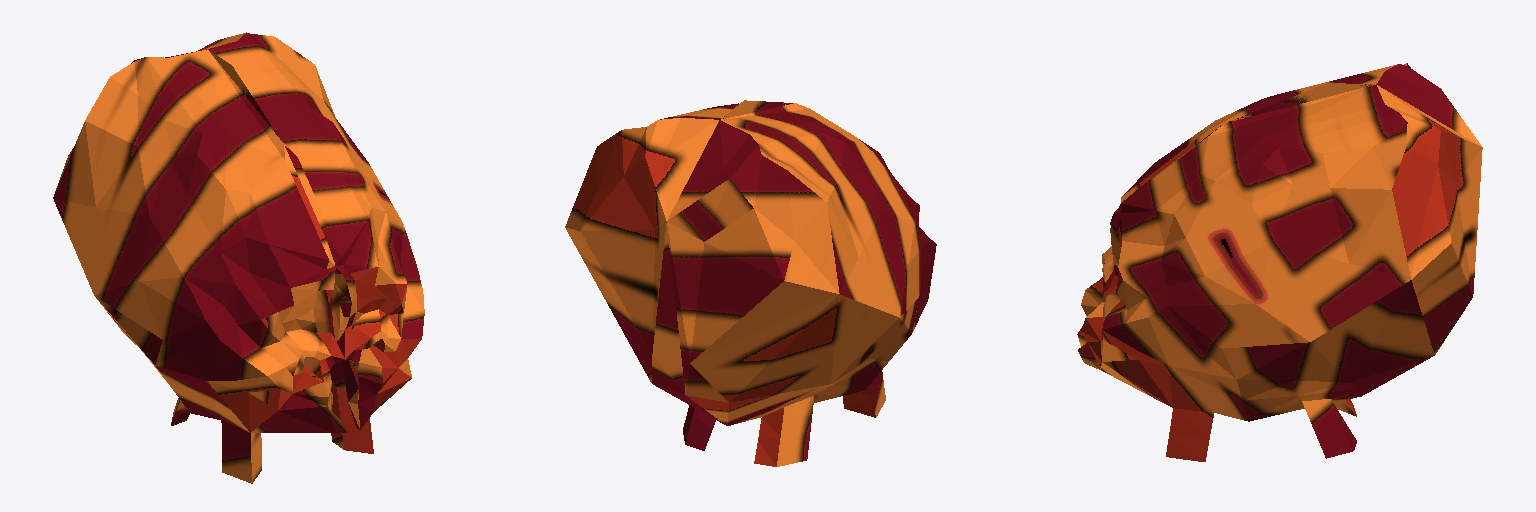
3 renders of one model, left to right at view 1: azimuth 30°, elevation 25°; view 2: azimuth 150°, elevation 25°; view 3: azimuth 270°, elevation 25°, orthographic.
Parts seen in each view (by area): view 1: Plane.001; view 2: Plane.001; view 3: Plane.001.
Boxes of the visible parts, x1,y1,x2,y2 form: Plane.001: [53, 32, 424, 483]; Plane.001: [565, 100, 936, 466]; Plane.001: [1077, 63, 1482, 461].
Bounding box in the file's own units: 6.55 × 7.38 × 7.83.
Materials: 1 (1 with a texture image).